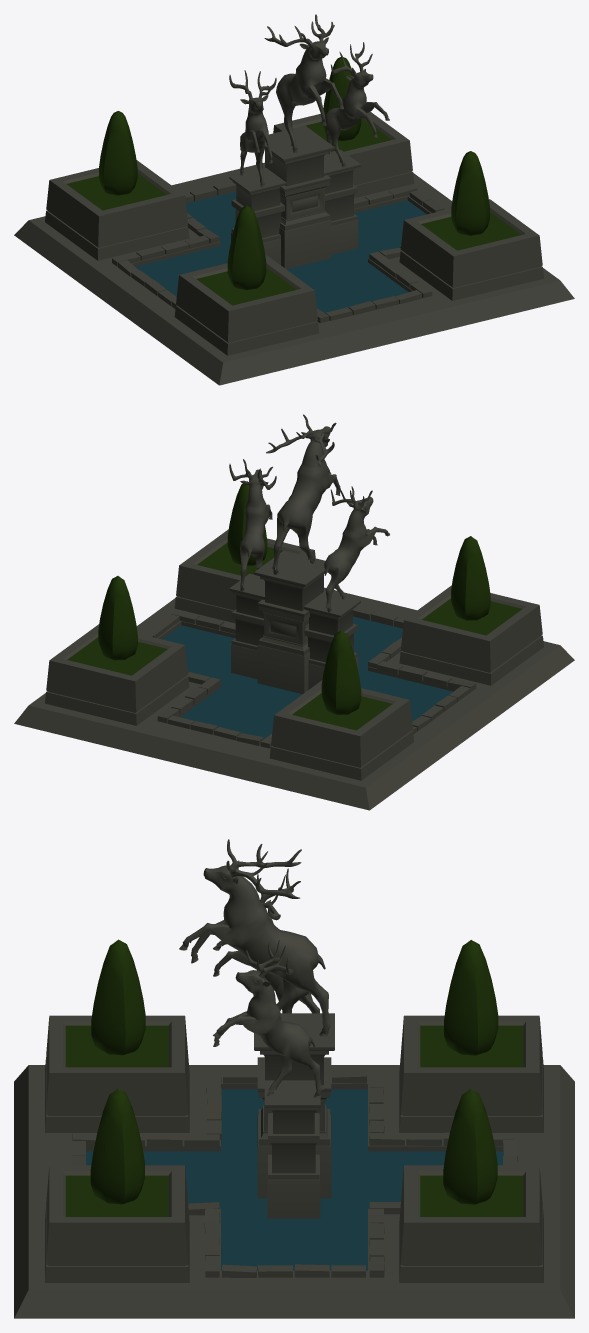
3 views of the same model, one above another, from view 1: azimuth 30°, elevation 25°; view 2: azimuth 150°, elevation 25°; view 3: azimuth 270°, elevation 25° (orthographic). The views are drawn at different scales.
Parts seen in each view (by area): view 1: TownCenter_SecondAge_Level3_Cube.219; view 2: TownCenter_SecondAge_Level3_Cube.219; view 3: TownCenter_SecondAge_Level3_Cube.219.
Part boxes in pixels (bbox=[...]): TownCenter_SecondAge_Level3_Cube.219: bbox=[14, 14, 574, 385]; TownCenter_SecondAge_Level3_Cube.219: bbox=[14, 414, 574, 810]; TownCenter_SecondAge_Level3_Cube.219: bbox=[14, 839, 574, 1318].
Bounding box in the file's own units: 223 × 153 × 223.
